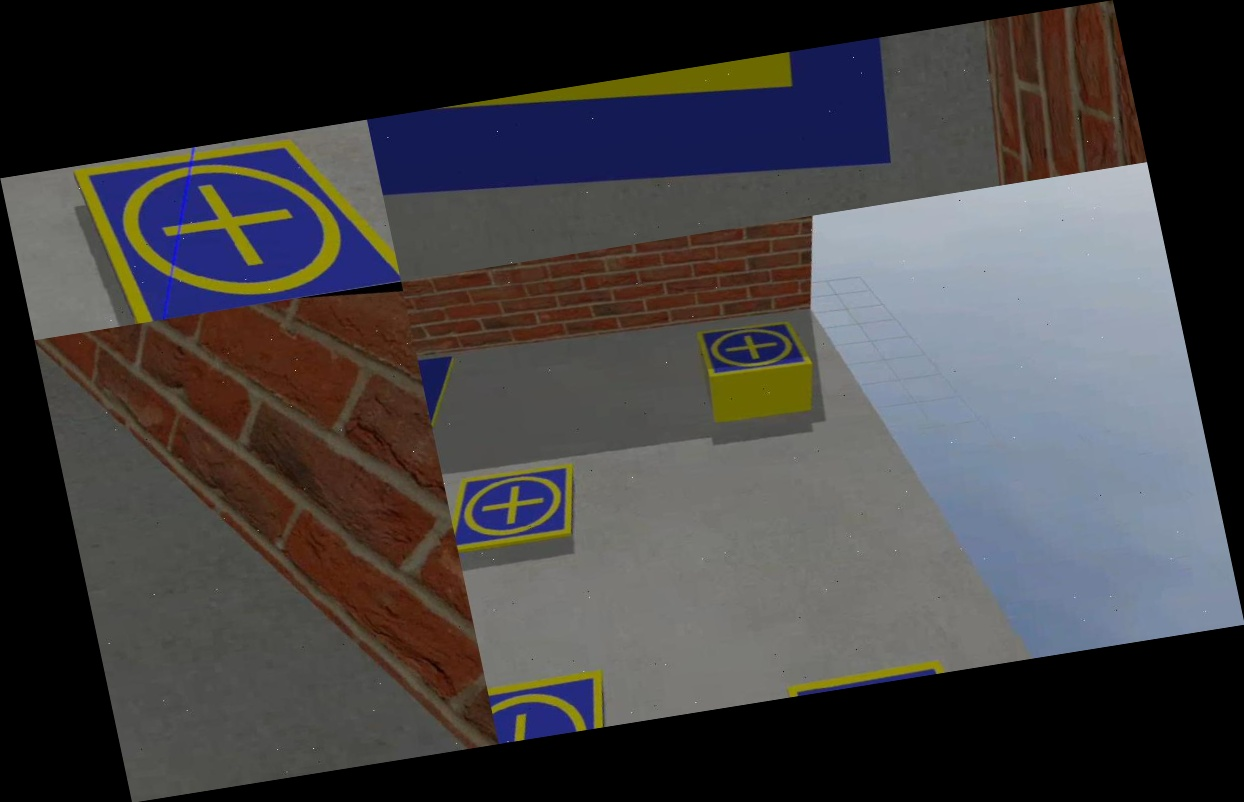large_base: (367, 31, 948, 248)
small_base: (52, 119, 401, 332), (441, 449, 591, 565), (771, 638, 983, 698), (484, 657, 614, 743), (690, 308, 822, 390)
